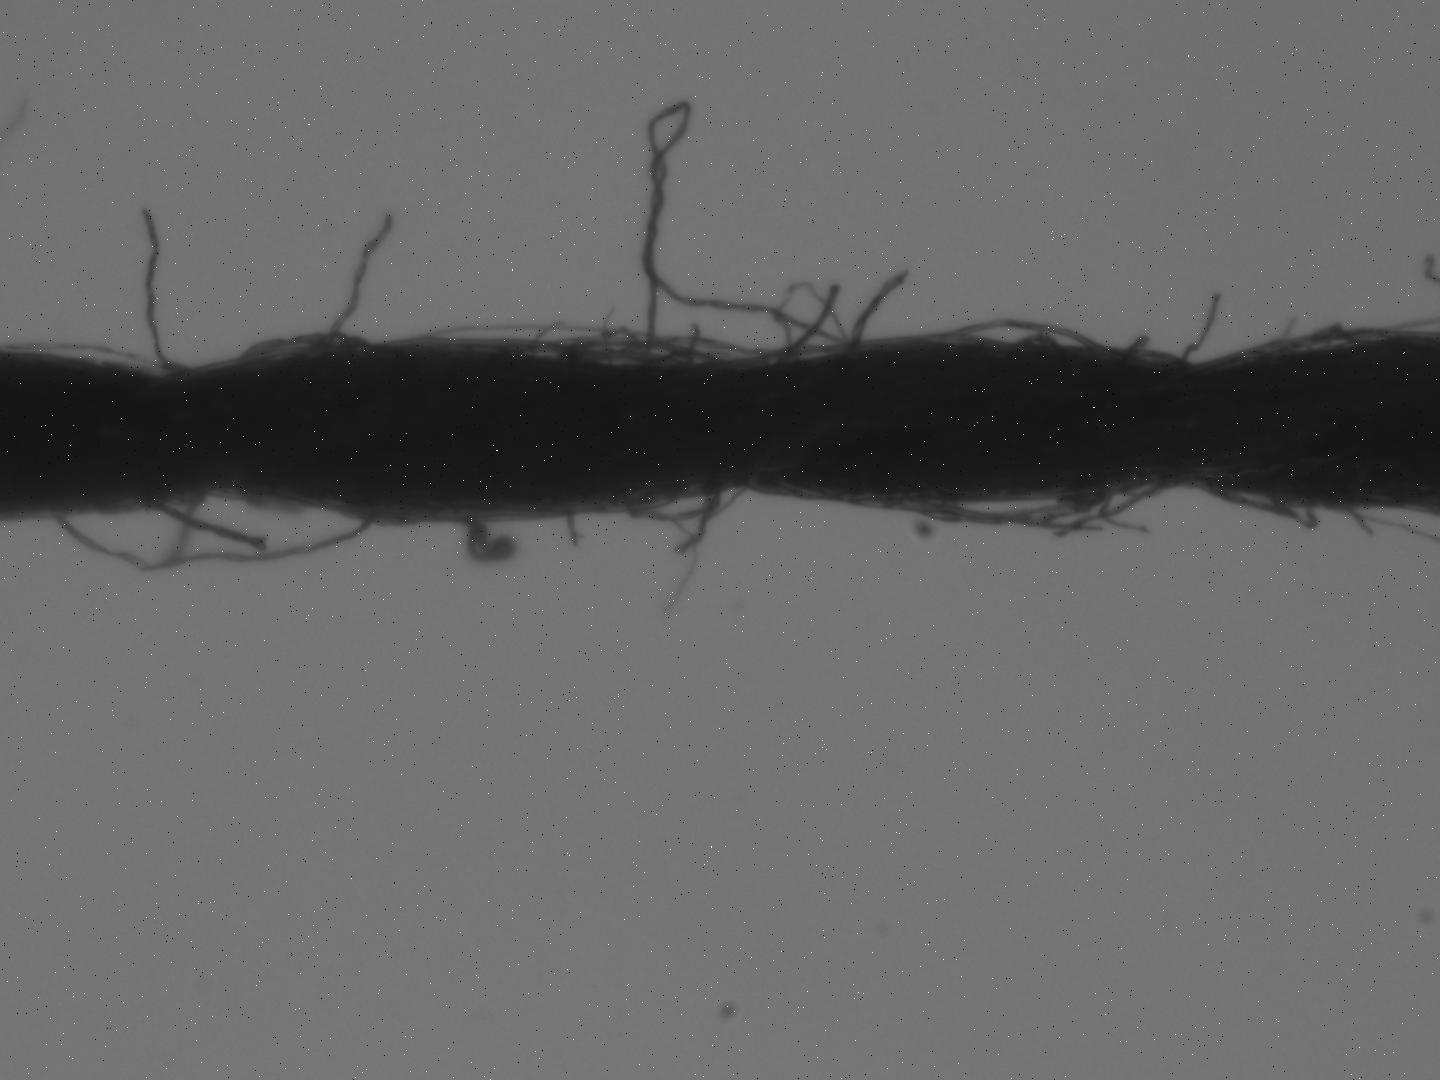loop_fiber: (52, 493, 361, 573), (888, 474, 1130, 522), (941, 313, 1113, 353), (616, 331, 776, 365), (1198, 480, 1310, 524), (229, 331, 355, 364), (566, 327, 650, 363), (626, 486, 711, 517), (1014, 330, 1059, 353)
protruding_fiber: (315, 210, 396, 351), (765, 282, 839, 363), (142, 205, 175, 376), (840, 270, 905, 351), (1174, 289, 1219, 366), (564, 512, 584, 547)
